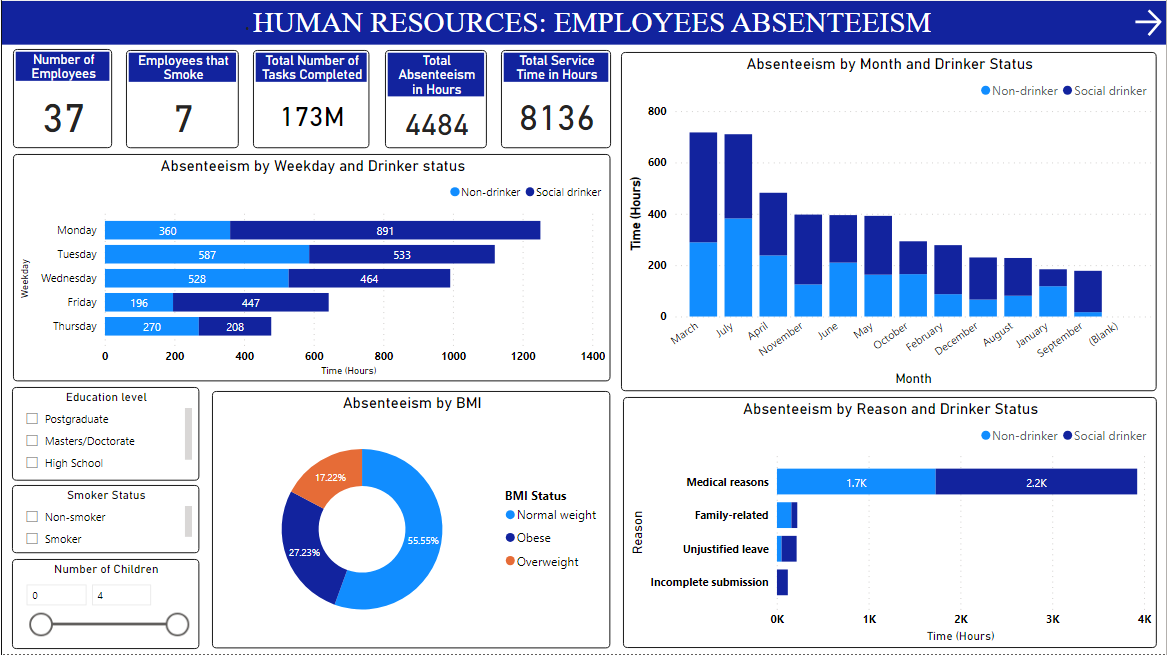

This screenshot's page, from the dashboard's own definition file:
{"tool":"powerbi","page":{"name":"Page 1","canvas":[1280,720],"ordinal":0},"visuals":[{"type":"card","title":"Total Absenteeism in Hours","fields":{"Values":["Sum(Absenteeisms.Absenteeism time in hours)"]},"box":[421.6,55.8,111.5,108],"z":0},{"type":"lineStackedColumnComboChart","title":"Absenteeism by Month and Drinker Status","fields":{"Category":["Absenteeisms.Month"],"Y":["Sum(Absenteeisms.Absenteeism time in hours)"],"Series":["Employee_info.Drinker status"]},"box":[680.7,58.1,588.9,372.8],"z":1000},{"type":"card","title":"Number of Employees","fields":{"Values":["Count(Employee_info.ID)"]},"box":[11.6,54.6,109.2,109.2],"z":2000},{"type":"barChart","title":"Absenteeism by Reason and Drinker Status","fields":{"Category":["Absenteeisms.Absenteeism reason"],"Y":["Sum(Absenteeisms.Absenteeism time in hours)"],"Series":["Employee_info.Drinker status"]},"box":[683,437.9,586.6,276.4],"z":3000},{"type":"donutChart","title":"Absenteeism by BMI","fields":{"Y":["Sum(Absenteeisms.Absenteeism time in hours)"],"Category":["Employee_info.BMI Status"]},"box":[231.1,430.9,437.9,283.4],"z":4000},{"type":"textbox","box":[0,2.3,1280,47.6],"z":5000},{"type":"slicer","title":"Education level","fields":{"Values":["Employee_info.Education level"]},"box":[10.5,426.3,205.6,103.4],"z":6000},{"type":"card","title":"Total Service Time in Hours","fields":{"Values":["Sum(Absenteeisms.Service time)"]},"box":[548.2,55.8,120.8,108],"z":7000},{"type":"card","title":"Total Number of Tasks Completed","fields":{"Values":["Sum(Absenteeisms.Work load Average/day)"]},"box":[276.4,55.8,127.8,108],"z":8000},{"type":"slicer","title":"Smoker Status","fields":{"Values":["Employee_info.Smoker status"]},"box":[10.5,534.3,205.6,75.5],"z":9000},{"type":"slicer","title":"Number of Children","fields":{"Values":["Employee_info.Children"]},"box":[10.5,615.6,205.6,98.7],"z":10000},{"type":"card","title":"Employees that Smoke","fields":{"Values":["Sum(Employee_info.Social smoker)"]},"box":[135.9,55.8,124.3,108],"z":11000},{"type":"barChart","title":"Absenteeism by Weekday and Drinker status","fields":{"Category":["Absenteeisms.Weekday"],"Y":["Sum(Absenteeisms.Absenteeism time in hours)"],"Series":["Employee_info.Drinker status"]},"box":[11.6,170.7,657.4,249.7],"z":12000},{"type":"actionButton","box":[1240.5,7,39.5,39.5],"z":13000}]}

Visuals, with their boxes in screenshot pixels (x1, y1, x2, y2), scaled from the page's 1280x720 canvas onto the 1167x655 screenshot:
"Total Absenteeism in Hours" card: [x1=384, y1=51, x2=486, y2=149]
"Absenteeism by Month and Drinker Status" lineStackedColumnComboChart: [x1=621, y1=53, x2=1158, y2=392]
"Number of Employees" card: [x1=11, y1=50, x2=110, y2=149]
"Absenteeism by Reason and Drinker Status" barChart: [x1=623, y1=398, x2=1158, y2=650]
"Absenteeism by BMI" donutChart: [x1=211, y1=392, x2=610, y2=650]
textbox: [x1=0, y1=2, x2=1166, y2=45]
"Education level" slicer: [x1=10, y1=388, x2=197, y2=482]
"Total Service Time in Hours" card: [x1=500, y1=51, x2=610, y2=149]
"Total Number of Tasks Completed" card: [x1=252, y1=51, x2=369, y2=149]
"Smoker Status" slicer: [x1=10, y1=486, x2=197, y2=555]
"Number of Children" slicer: [x1=10, y1=560, x2=197, y2=650]
"Employees that Smoke" card: [x1=124, y1=51, x2=237, y2=149]
"Absenteeism by Weekday and Drinker status" barChart: [x1=11, y1=155, x2=610, y2=382]
actionButton: [x1=1131, y1=6, x2=1166, y2=42]
